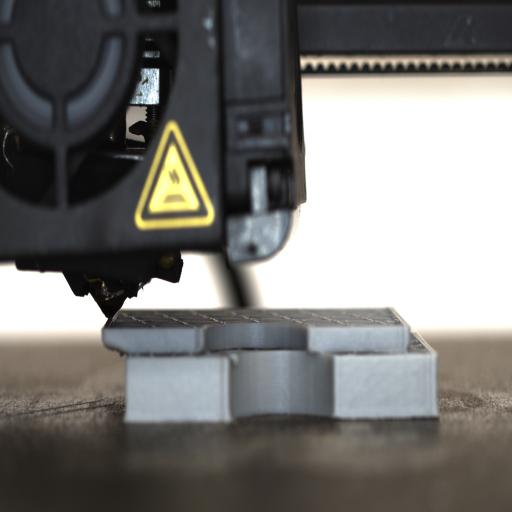layer_shift: (102, 341, 437, 359)
